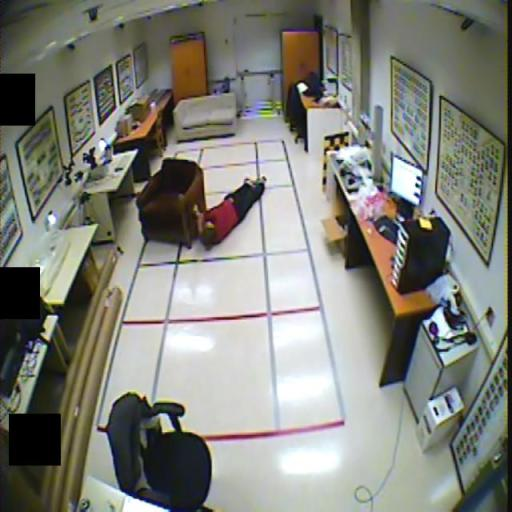Fall: (194, 175, 267, 252)
